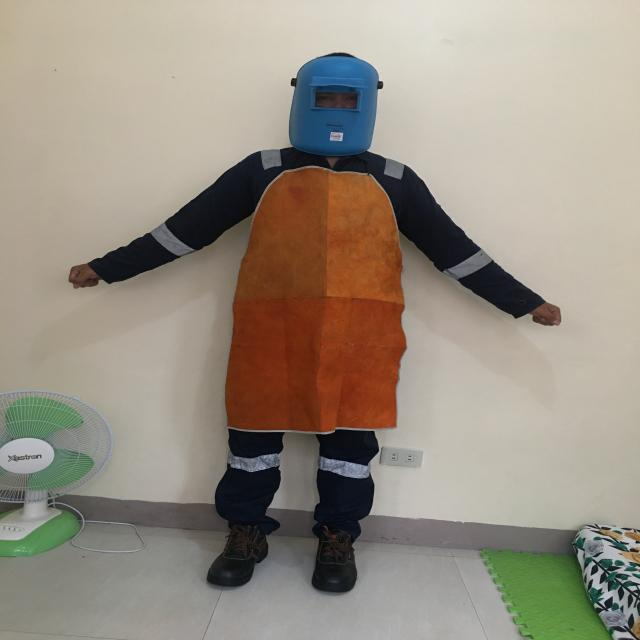with_helmet: (289, 54, 383, 156)
